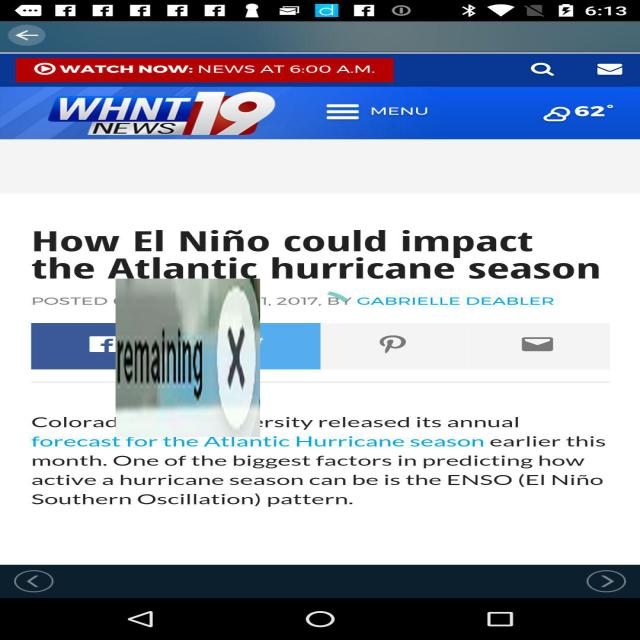misdirection: (116, 279, 260, 437)
